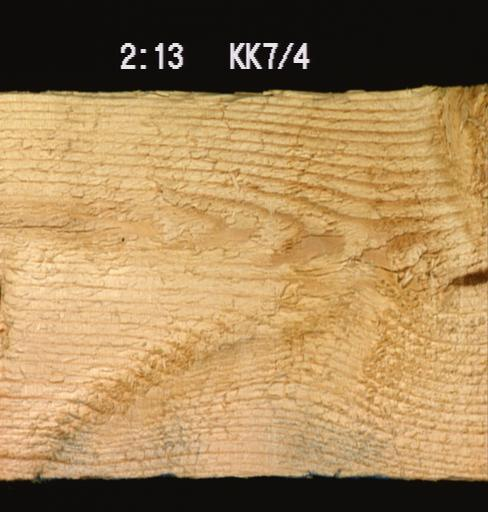split: (0, 220, 132, 243)
